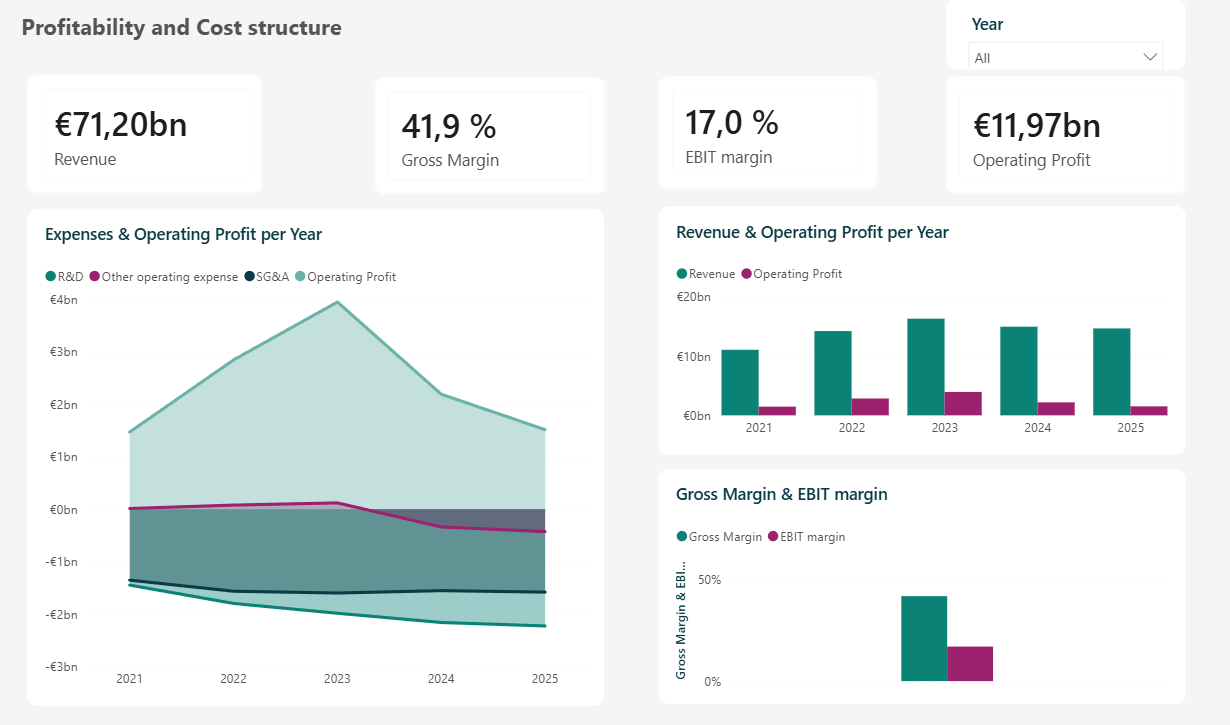

This screenshot's page, from the dashboard's own definition file:
{"tool":"powerbi","page":{"name":"Profitability and Cost Structure","canvas":[1280,720],"ordinal":2},"visuals":[{"type":"cardVisual","fields":{"Data":["P&L.Revenue"]},"box":[59.7,86.3,227.1,114.3],"z":0},{"type":"slicer","fields":{"Values":["Référence Date.Year"]},"box":[945.7,12.9,231.4,68.6],"z":1000},{"type":"cardVisual","fields":{"Data":["Key numbers.EBIT margin"]},"box":[668.6,88.3,211.4,108.6],"z":2000},{"type":"cardVisual","fields":{"Data":["P&L.Operating Profit"]},"box":[945.7,88.3,231.9,113.9],"z":3000},{"type":"clusteredColumnChart","title":"Revenue & Operating Profit per Year","fields":{"Category":["P&L.Year"],"Y":["P&L.Revenue","P&L.Operating Profit"]},"box":[668.6,214,508.6,240],"z":4000},{"type":"areaChart","title":"Expenses & Operating Profit per Year","fields":{"Category":["Référence Date.Year"],"Y":["P&L.R&D","P&L.Other operating expense","P&L.SG&A","P&L.Operating Profit"]},"box":[59.7,216.3,557.1,480],"z":5000},{"type":"cardVisual","fields":{"Data":["Gross Margin.Gross Margin"]},"box":[394,89.1,222.9,112.9],"z":6000},{"type":"clusteredColumnChart","title":"Gross Margin & EBIT margin","fields":{"Y":["Gross Margin.Gross Margin","Key numbers.EBIT margin"]},"box":[668.6,466.9,508.6,227.1],"z":7000},{"type":"textbox","box":[37.1,12.9,484.4,68.6],"z":8000}]}

Visuals, with their boxes on the page's 1280x720 design canvas (x1, y1, x2, y2). These are canvas units, not pixel positions in the 1230x725 screenshot, which may show the page scaled, cropped or inside an application window:
cardVisual - P&L.Revenue: 60, 86, 287, 201
slicer - Référence Date.Year: 946, 13, 1177, 82
cardVisual - Key numbers.EBIT margin: 669, 88, 880, 197
cardVisual - P&L.Operating Profit: 946, 88, 1178, 202
"Revenue & Operating Profit per Year" clusteredColumnChart: 669, 214, 1177, 454
"Expenses & Operating Profit per Year" areaChart: 60, 216, 617, 696
cardVisual - Gross Margin.Gross Margin: 394, 89, 617, 202
"Gross Margin & EBIT margin" clusteredColumnChart: 669, 467, 1177, 694
textbox: 37, 13, 522, 82
